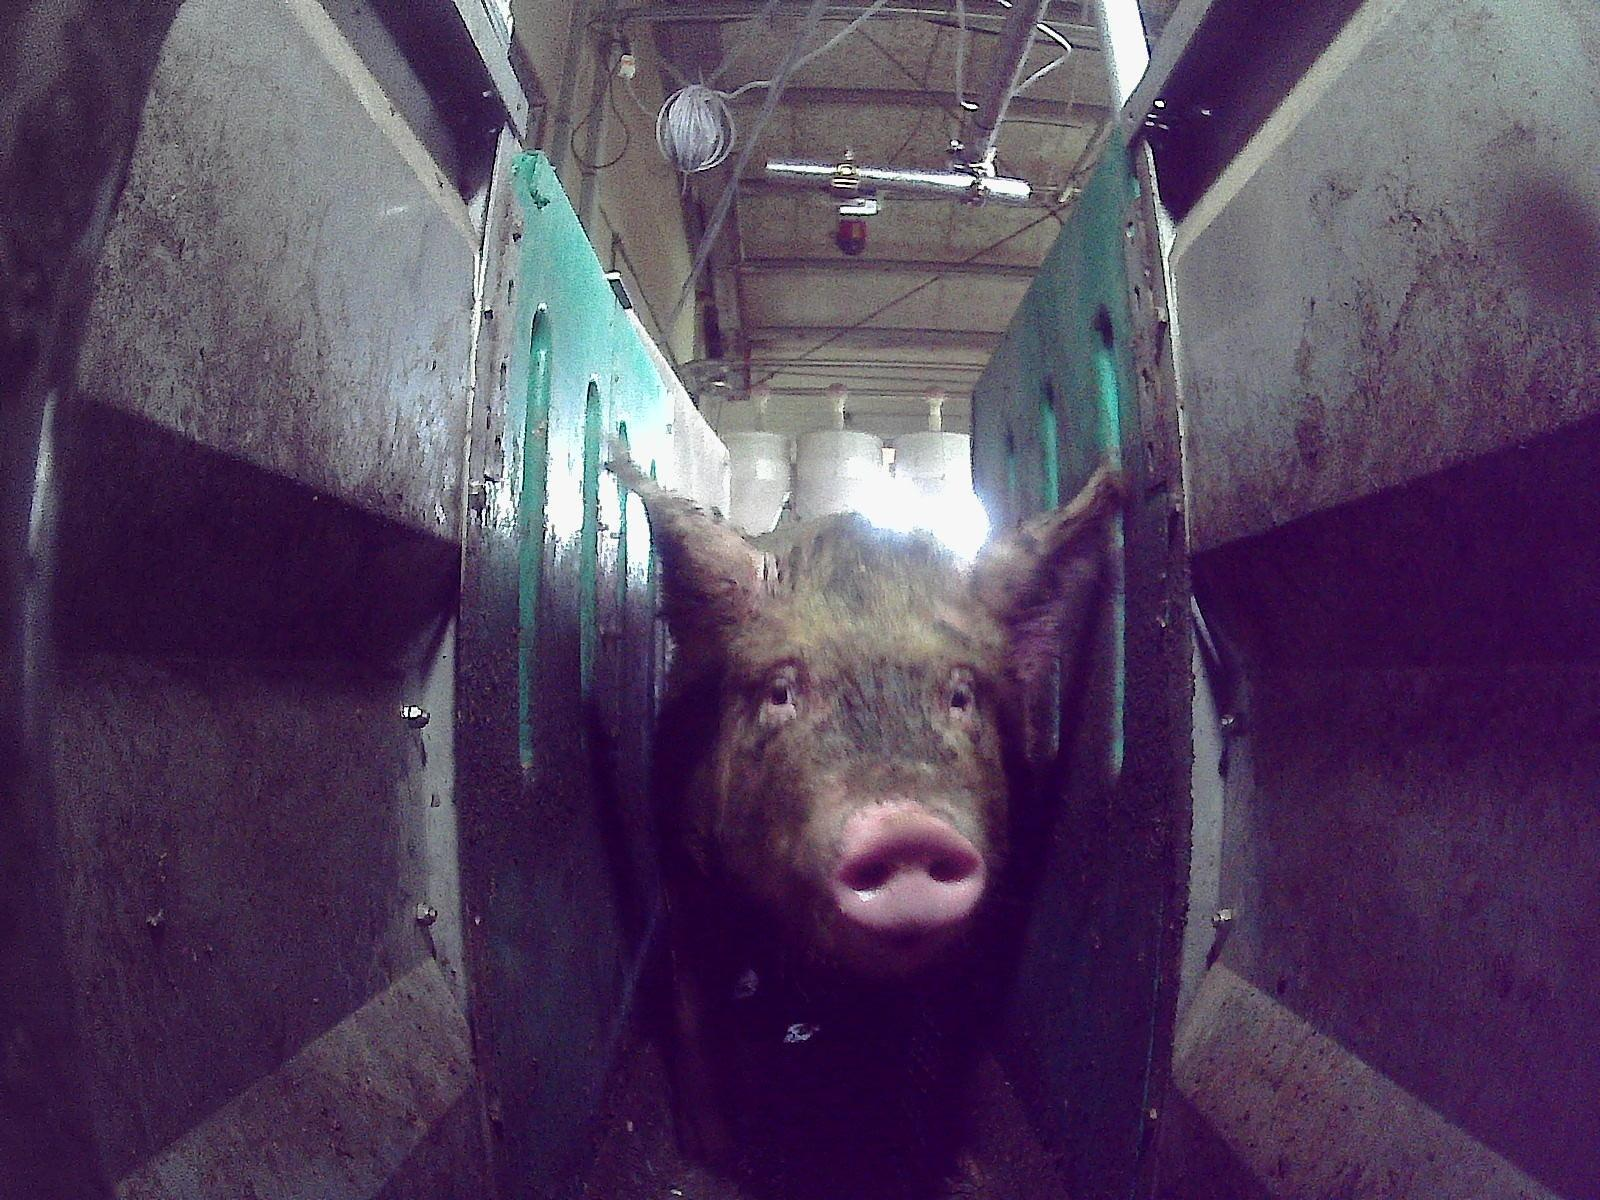Face: (670, 520, 1015, 976)
